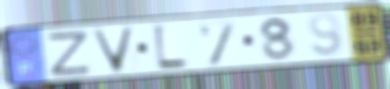7: (197, 18, 238, 67)
8: (258, 16, 300, 61)
9: (305, 12, 346, 58)
L: (150, 22, 191, 72)
V: (88, 25, 139, 75)
Z: (46, 29, 93, 79)
